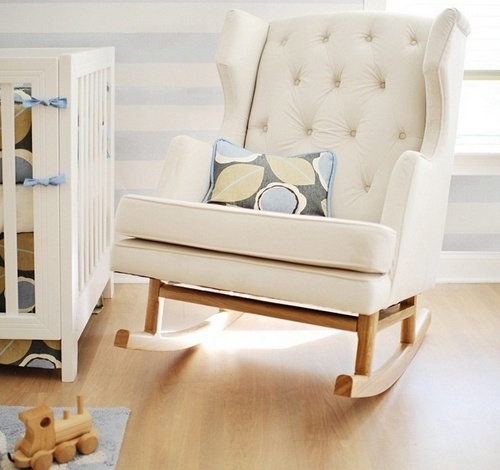chairs: (108, 7, 472, 402)
